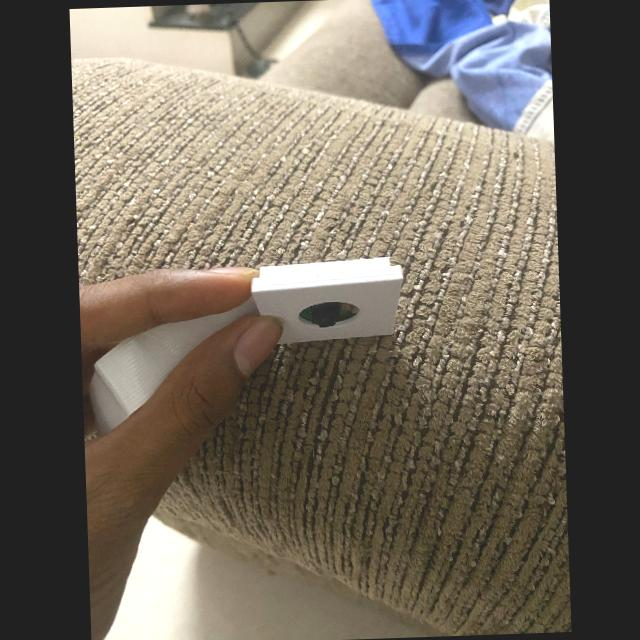RASPBERY PI CAM ENCLOSURE: (250, 255, 406, 344)
